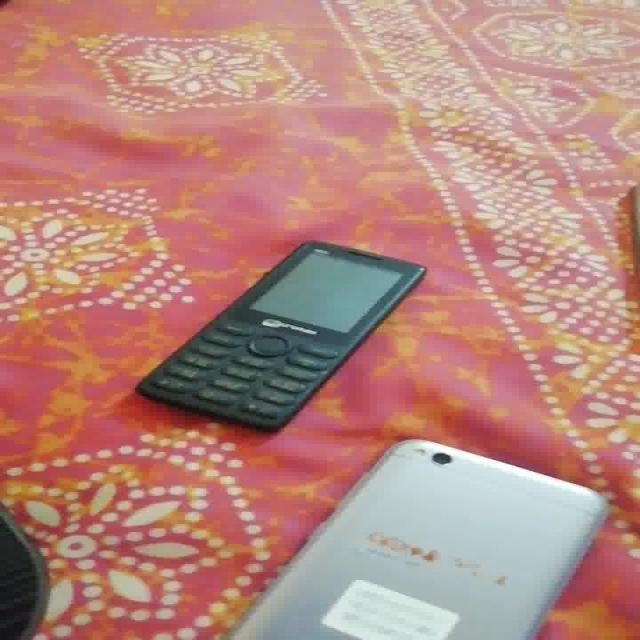phone: (124, 221, 427, 403)
